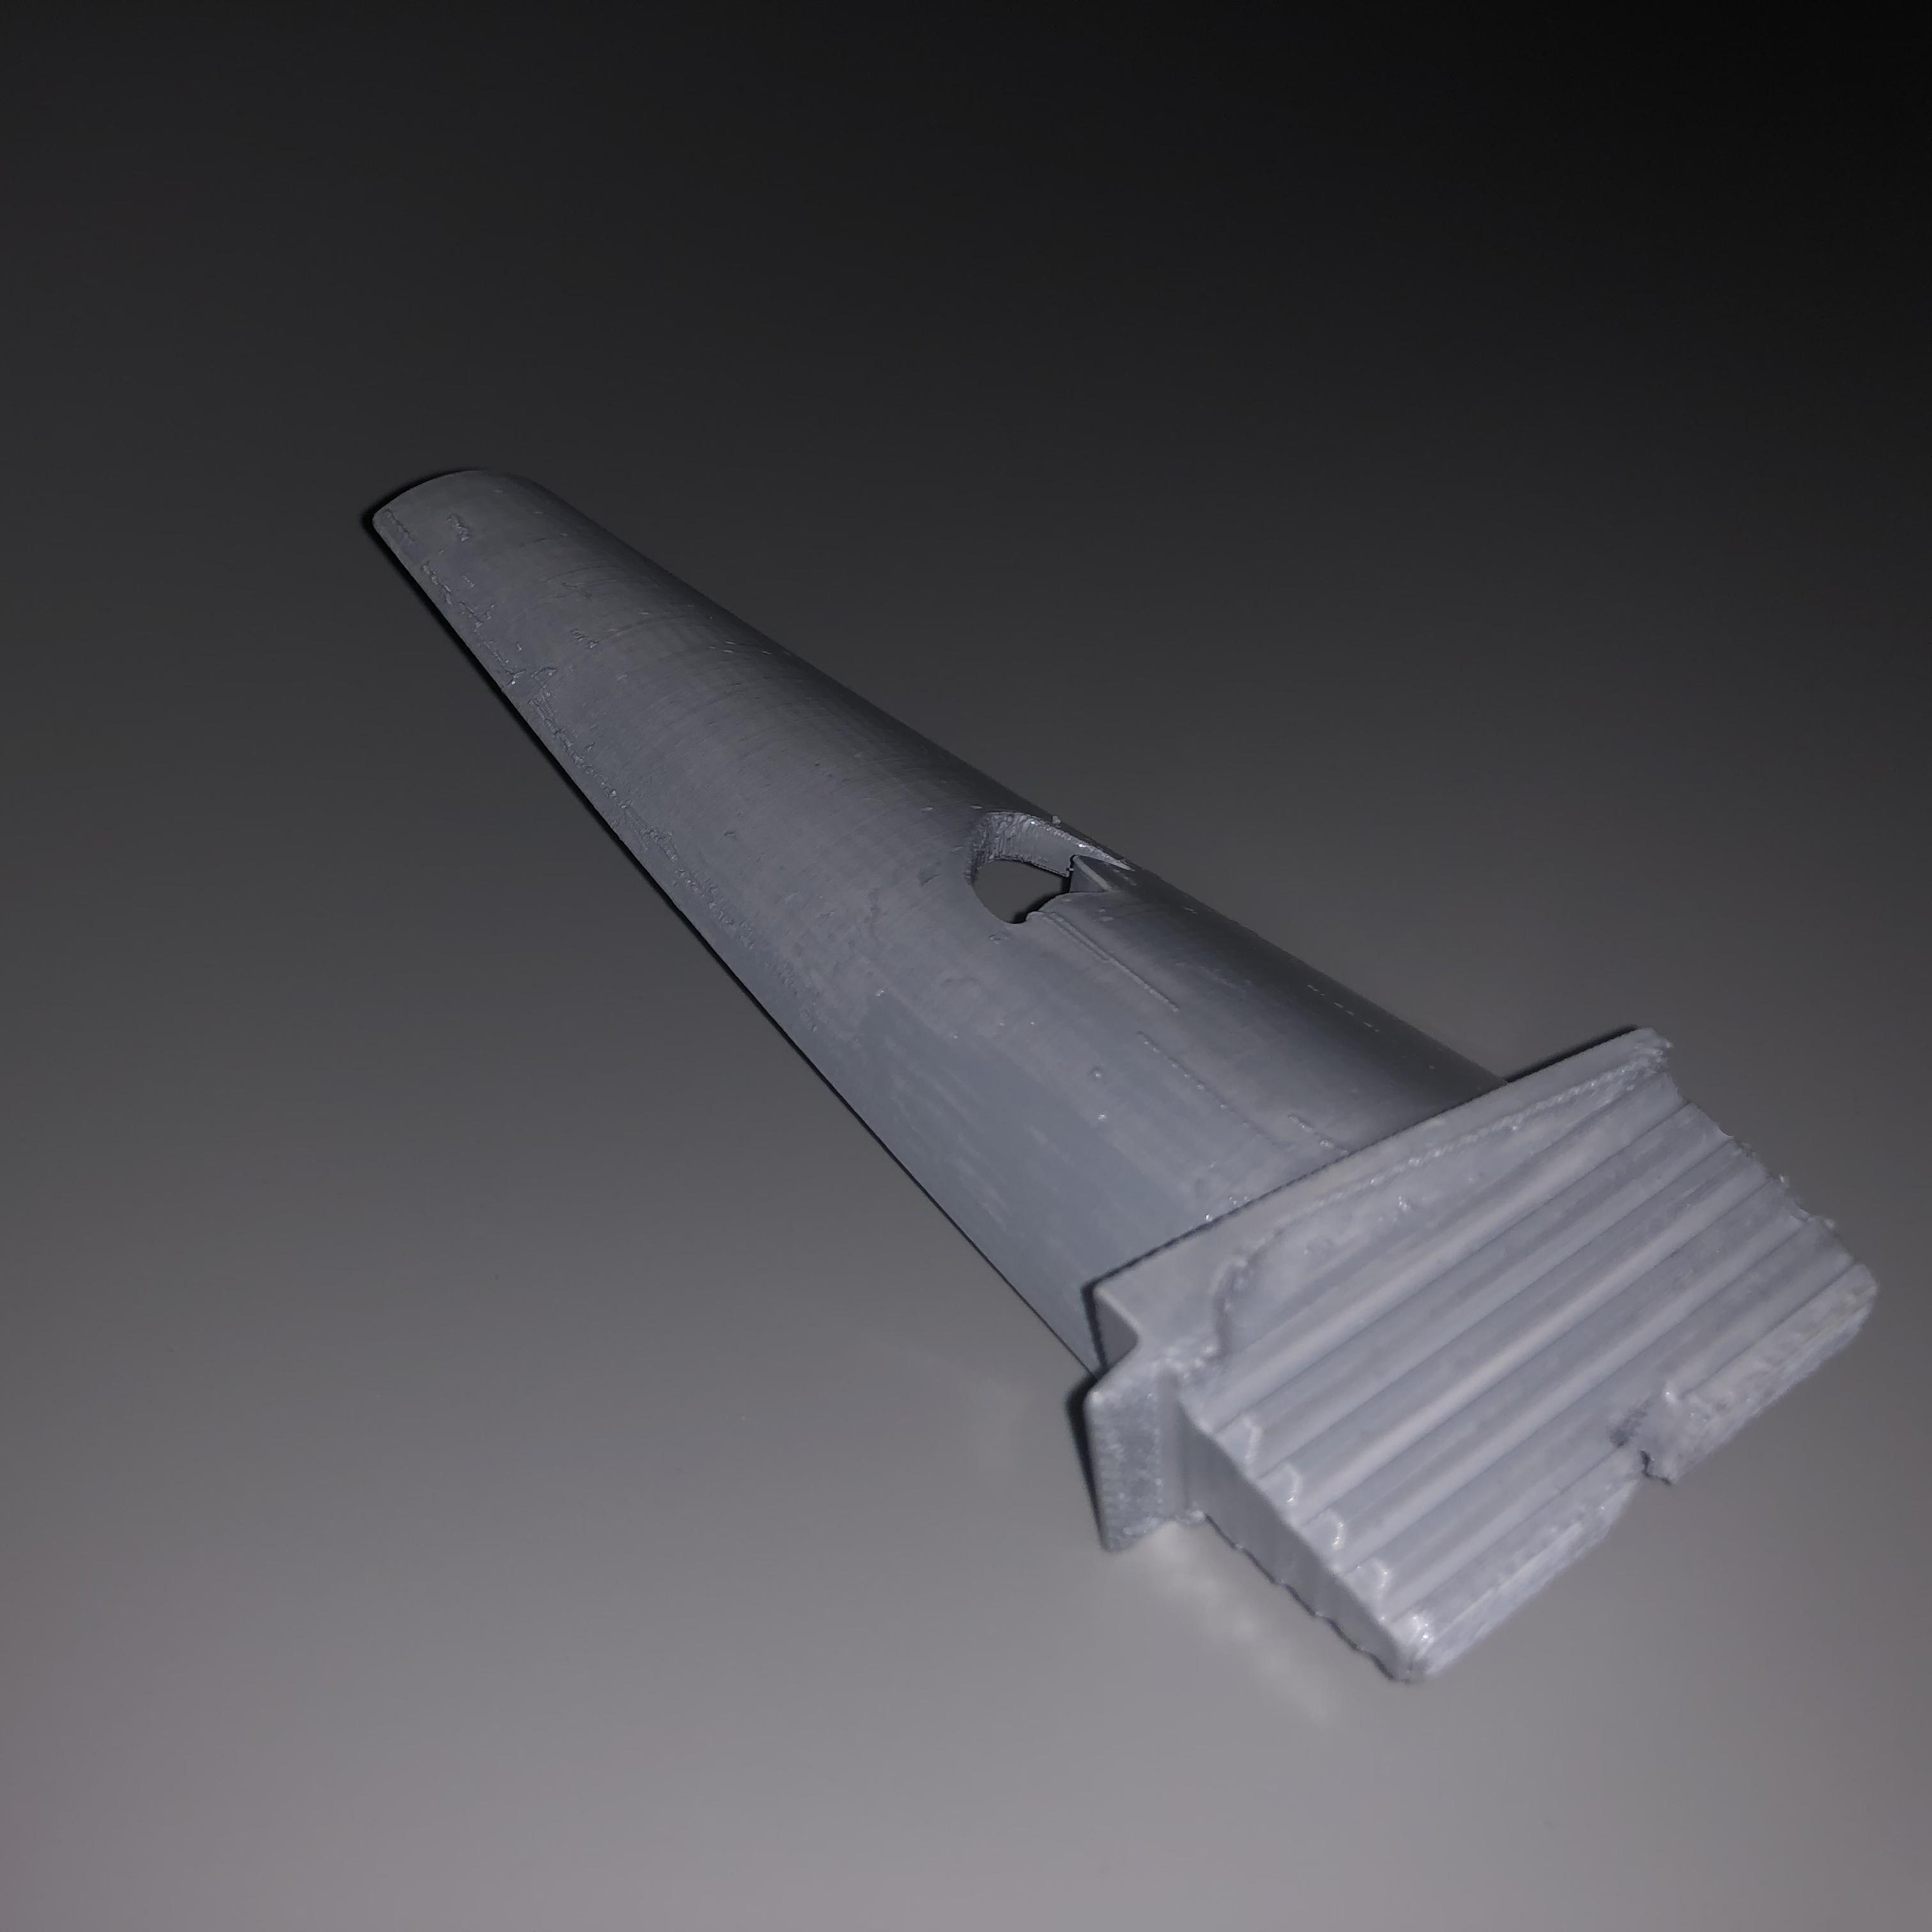breakdown: (957, 801, 1161, 925)
